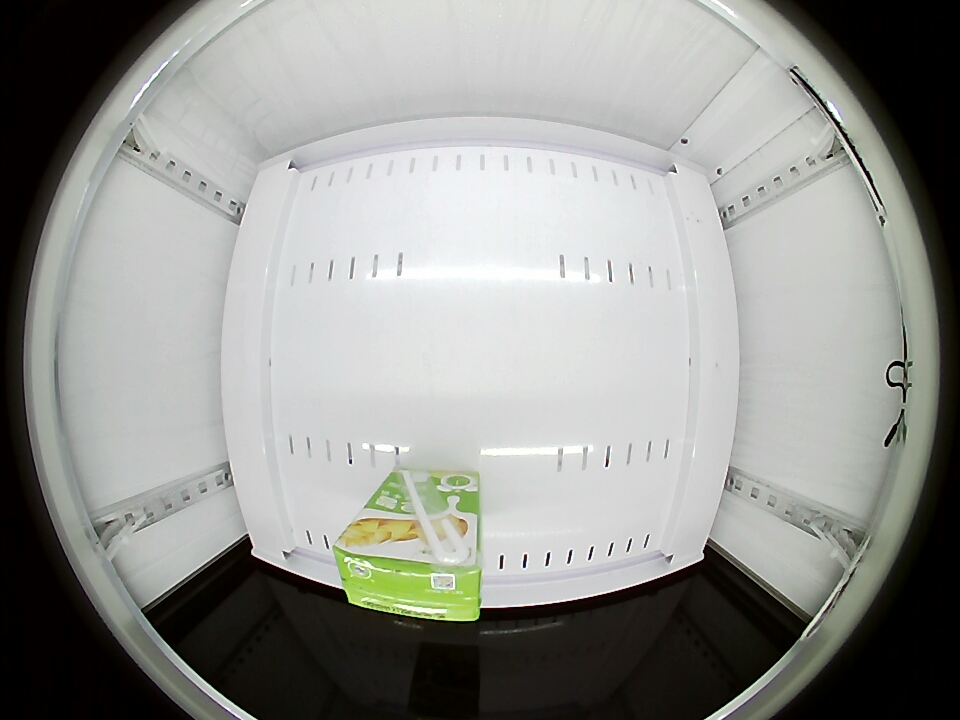mengniuzaocan: (334, 518, 480, 622)
